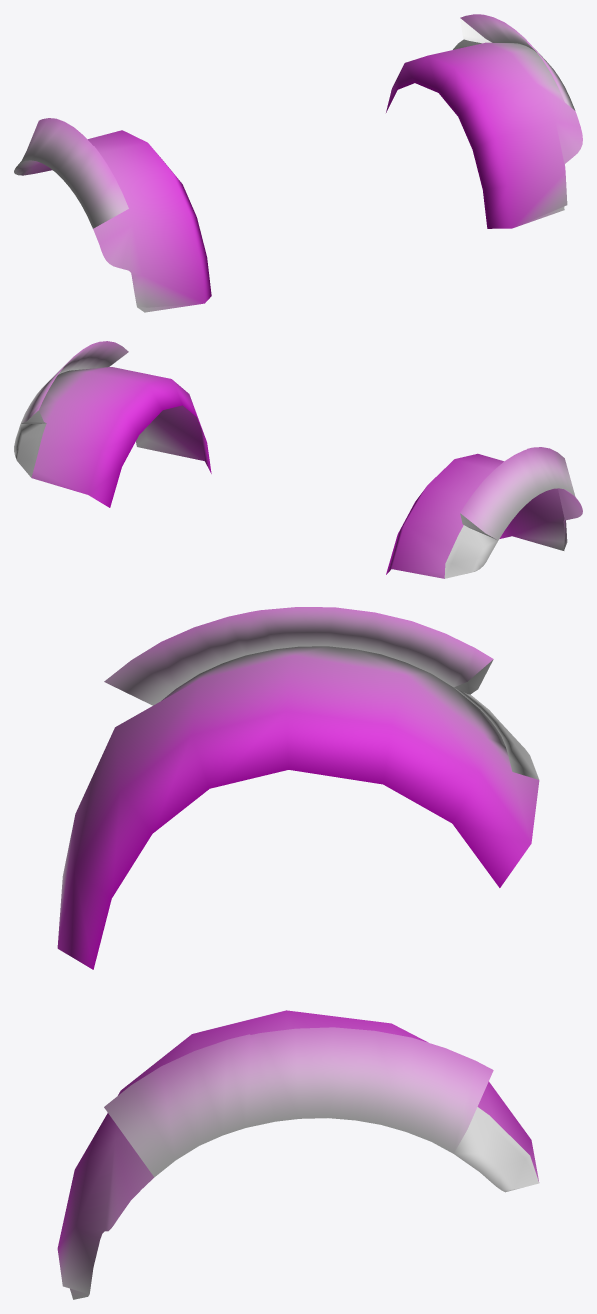
File: Car_Mini_CountrymanJCW_2017_FendersChassisR_SetE_AltA.fbx
3 renders of one model, top to bottom at view 1: azimuth 30°, elevation 25°; view 2: azimuth 150°, elevation 25°; view 3: azimuth 270°, elevation 25°, orthographic. The views are drawn at different scales.
Visible parts, largest first — view 1: FendersChassisR 6; view 2: FendersChassisR 6; view 3: FendersChassisR 6.
Part boxes in pixels (x1=…): FendersChassisR 6: x1=14, y1=14, x2=582, y2=312; FendersChassisR 6: x1=14, y1=341, x2=582, y2=578; FendersChassisR 6: x1=57, y1=607, x2=539, y2=1299.
Bounding box in the file's own units: 1.95 × 0.5544 × 0.8424.
